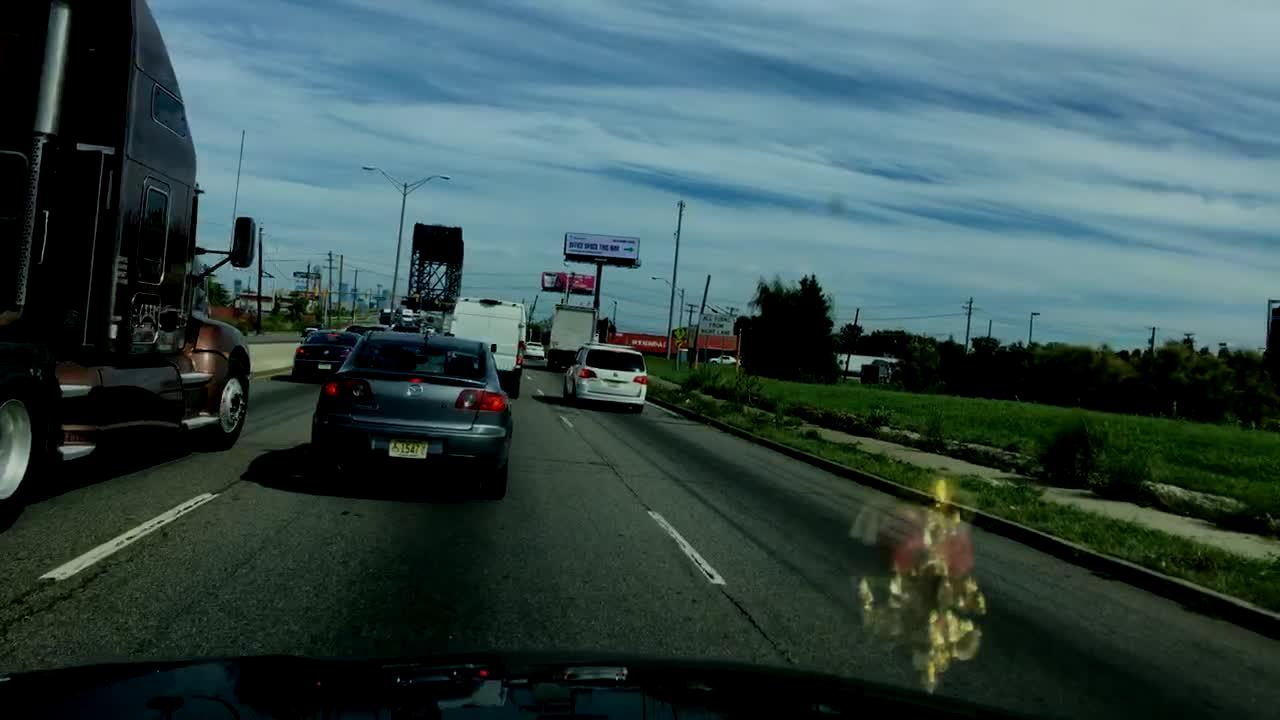Mazda: (398, 378, 434, 403)
